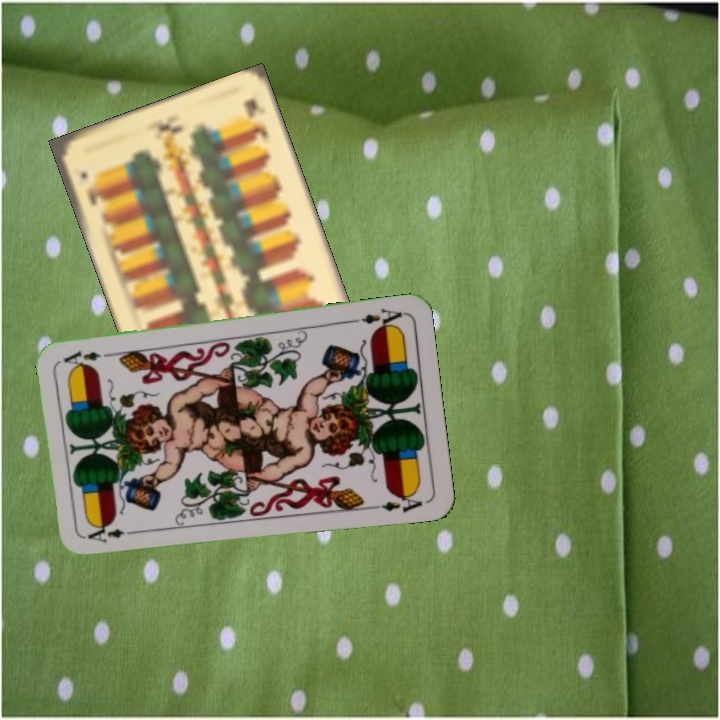E10: (75, 166, 107, 209)
EA: (347, 304, 405, 332), (83, 525, 141, 546)
